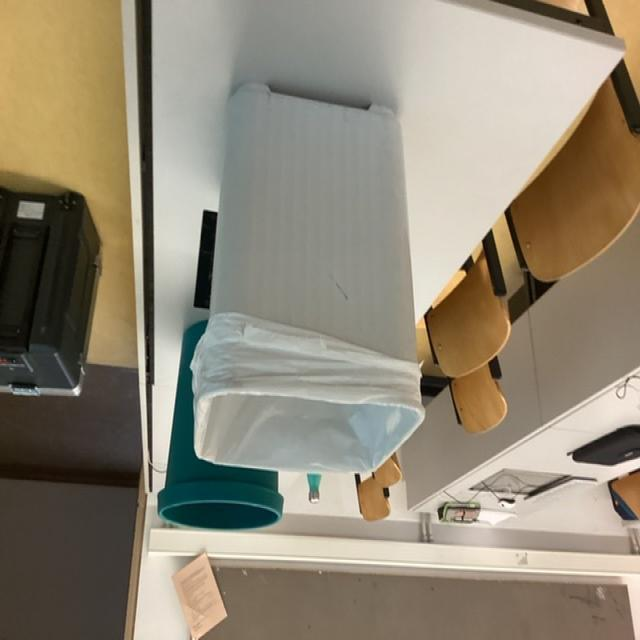garbage container: (182, 64, 446, 466)
